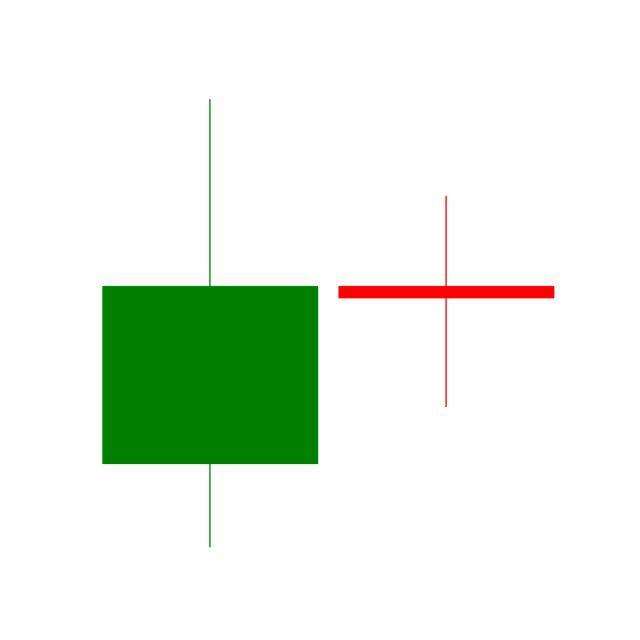Spinning Top: (328, 194, 566, 411)
